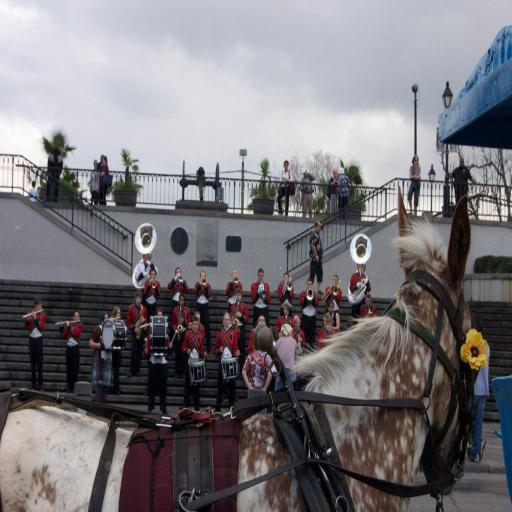horse: (0, 192, 473, 512)
